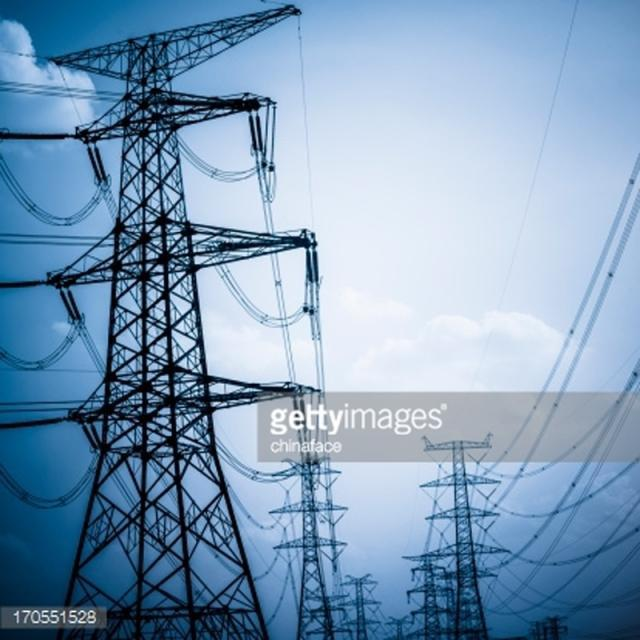non-critical vegetation: (52, 22, 288, 586), (416, 438, 509, 588), (268, 446, 349, 588)
